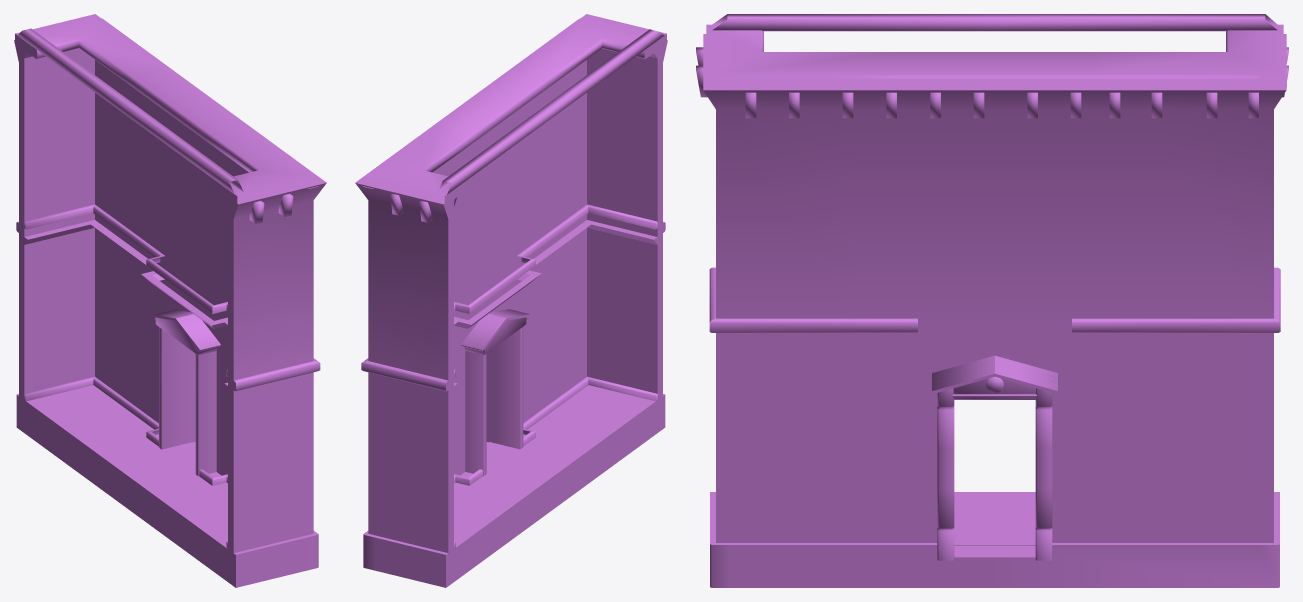
File: Endbuilding(Mine)2.fbx
3 renders of one model, left to right at view 1: azimuth 30°, elevation 25°; view 2: azimuth 150°, elevation 25°; view 3: azimuth 270°, elevation 25°, orthographic. The views are drawn at different scales.
Parts seen in each view (by area): view 1: BrickHouse_End_B.006; view 2: BrickHouse_End_B.006; view 3: BrickHouse_End_B.006.
Part boxes in pixels (x1,y1,x2,y2): BrickHouse_End_B.006: (14,14,326,587); BrickHouse_End_B.006: (355,14,667,587); BrickHouse_End_B.006: (696,14,1288,587).
Size of the model in its own units: 1017 by 3583 by 3695.
